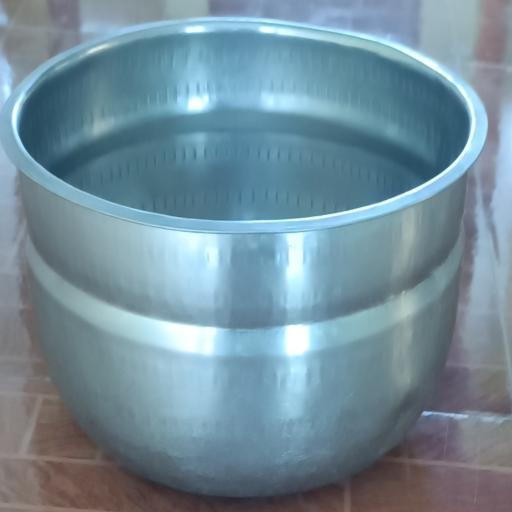vessel: (1, 18, 486, 496)
